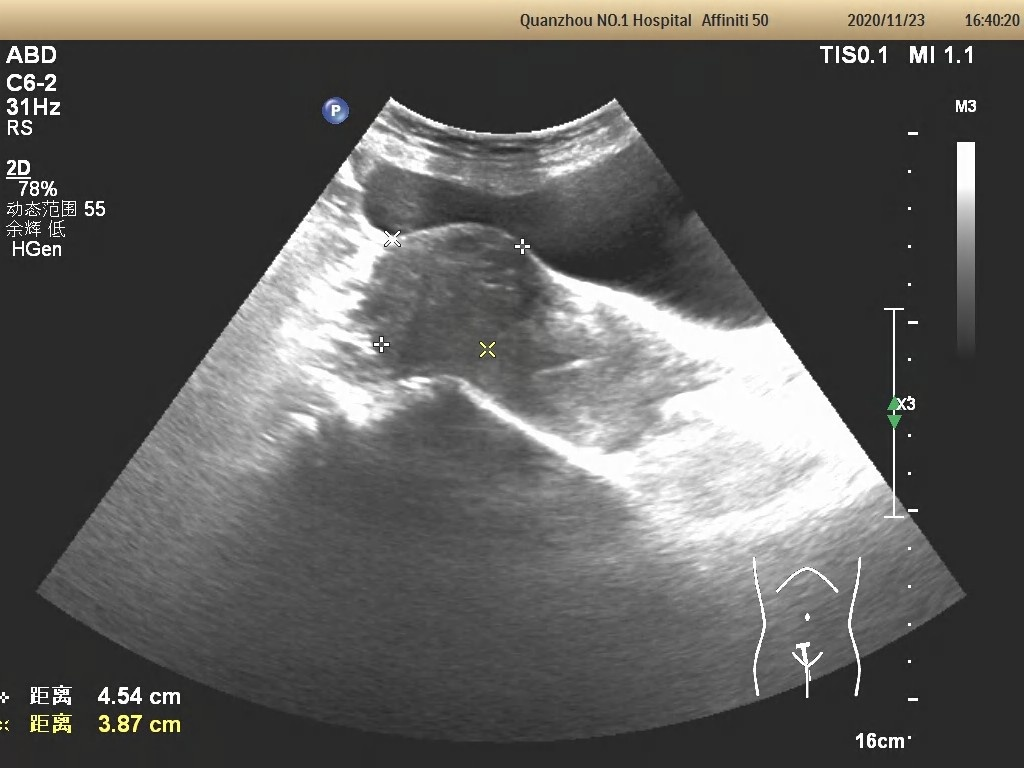肌瘤: (381, 237, 547, 353)
